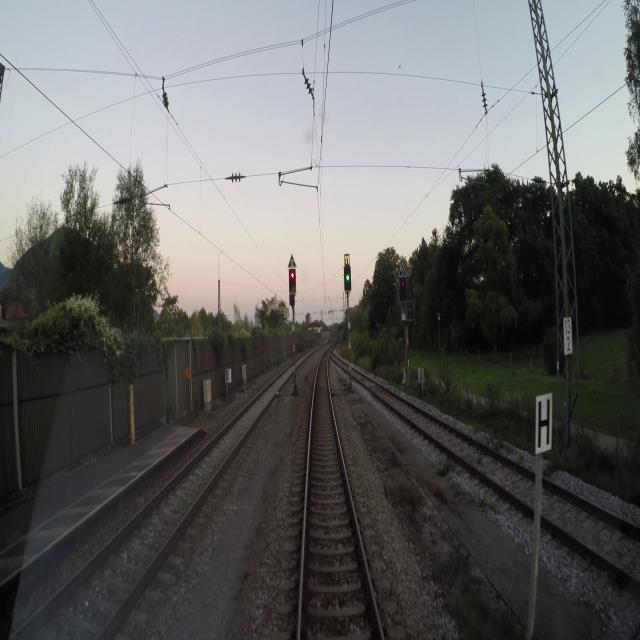rail-track: (11, 365, 292, 639), (351, 369, 534, 503), (301, 353, 380, 639), (540, 481, 640, 575)
